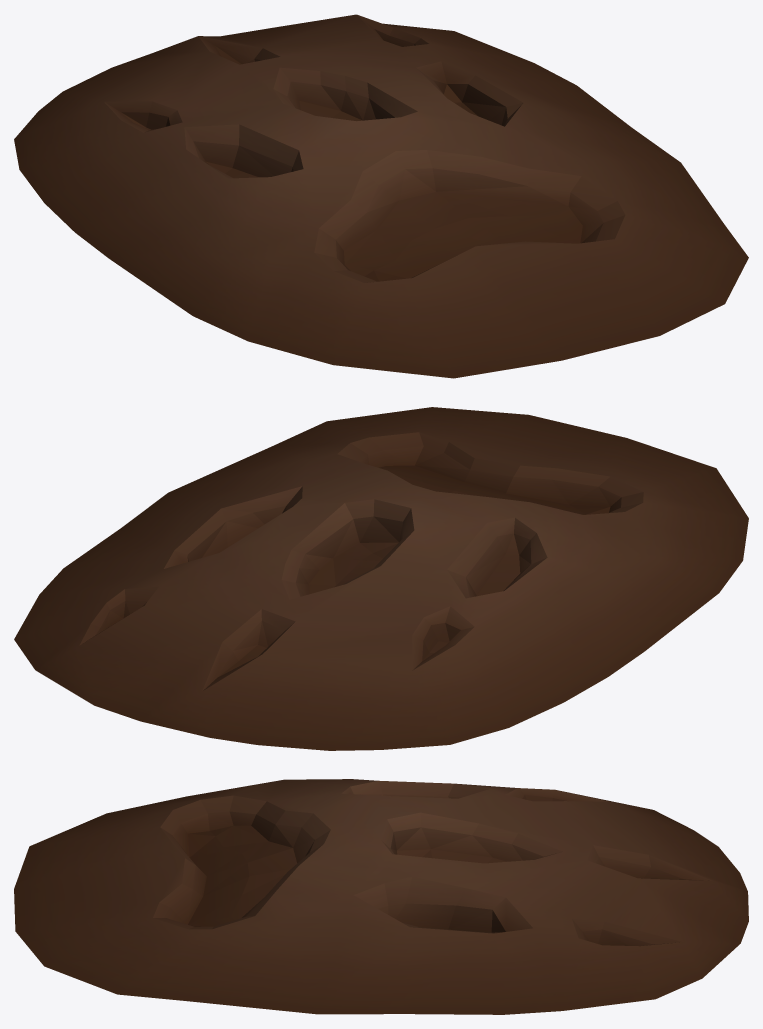
The model's file is SM_Nature_Decor_01.fbx.
3 views of the same model, one above another, from view 1: azimuth 30°, elevation 25°; view 2: azimuth 150°, elevation 25°; view 3: azimuth 270°, elevation 25° (orthographic). The views are drawn at different scales.
Parts seen in each view (by area): view 1: SM_Nature_Decor_01_LOD0; view 2: SM_Nature_Decor_01_LOD0; view 3: SM_Nature_Decor_01_LOD0.
Part boxes in pixels (x1,y1,x2,y2): SM_Nature_Decor_01_LOD0: (14, 14, 748, 378); SM_Nature_Decor_01_LOD0: (14, 407, 748, 750); SM_Nature_Decor_01_LOD0: (14, 779, 748, 1014).
Size of the model in its own units: 74.19 by 11.08 by 102.
